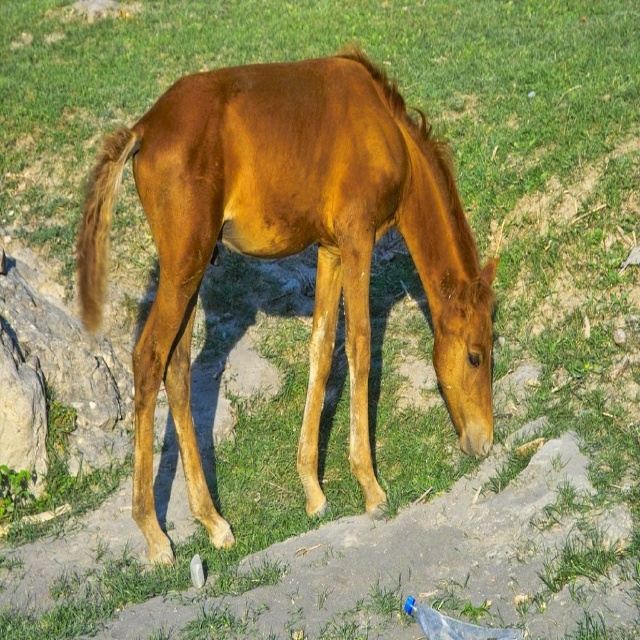Horse: (75, 47, 502, 565)
